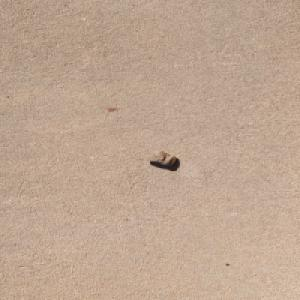Rock: (144, 150, 176, 165)
